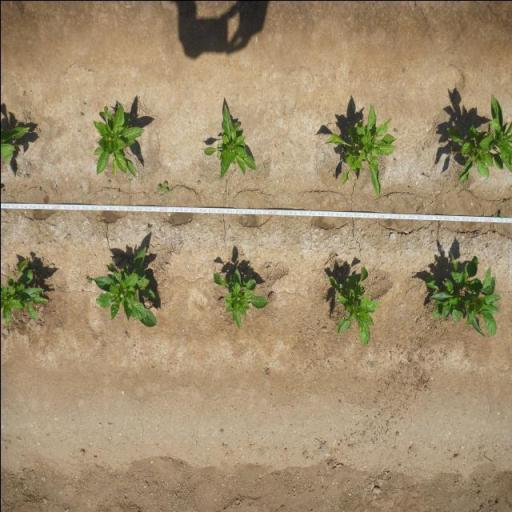plant: (421, 248, 502, 339), (324, 102, 394, 199), (445, 91, 512, 184), (92, 243, 159, 329), (325, 263, 383, 347), (201, 102, 259, 180), (90, 100, 146, 178), (210, 262, 270, 332), (0, 253, 50, 326), (0, 123, 33, 165)
weed: (156, 180, 168, 195), (85, 275, 93, 285), (144, 224, 152, 231), (22, 172, 30, 178), (78, 110, 83, 117), (503, 198, 508, 204), (499, 212, 504, 218), (196, 179, 200, 185), (106, 179, 110, 184), (127, 177, 132, 181), (116, 188, 120, 193), (393, 128, 398, 132), (38, 186, 40, 192), (492, 214, 496, 216)
